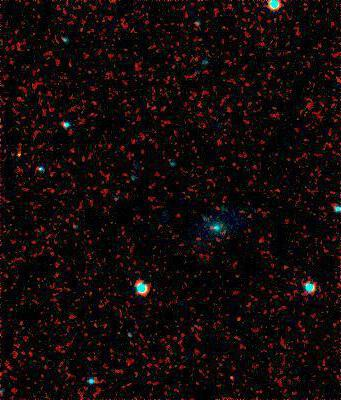star: (4, 140, 34, 170)
